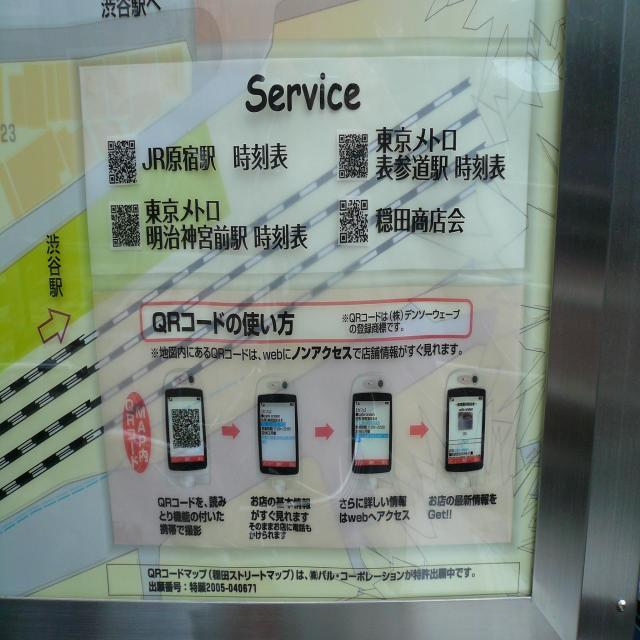qr-code: (107, 140, 137, 184), (338, 134, 368, 178), (111, 204, 140, 247), (340, 199, 368, 243), (171, 408, 201, 448)
